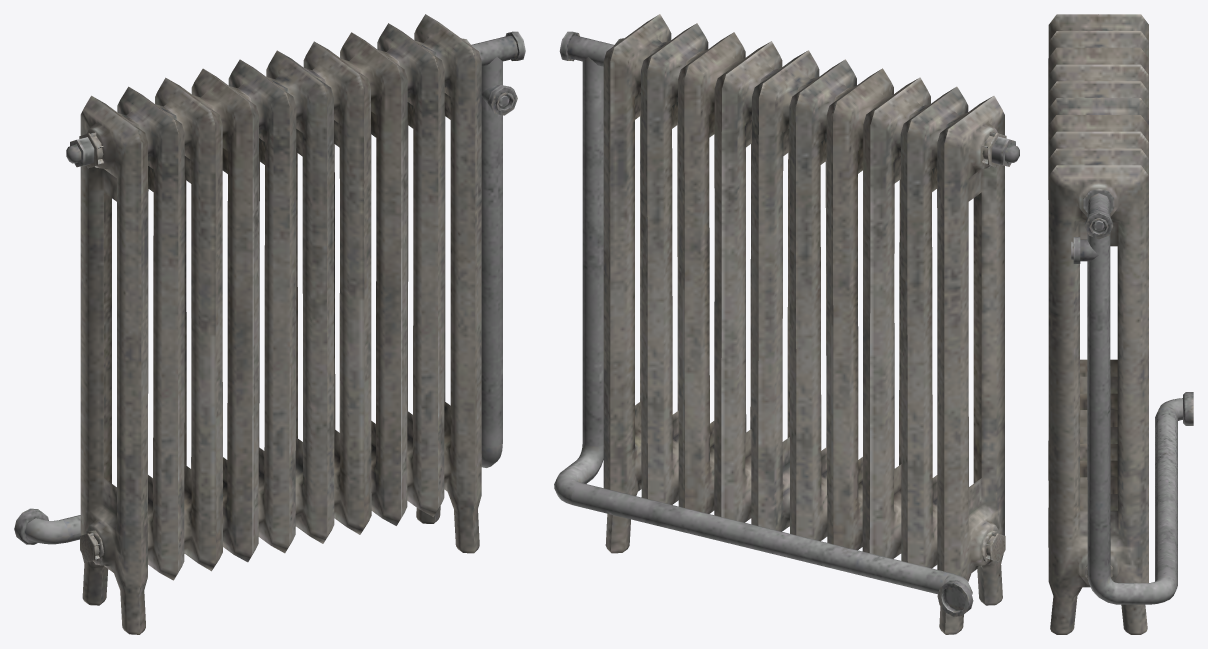
The model's file is 011_officeHeater.fbx.
The picture shows the model from 3 angles, left to right: view 1: azimuth 30°, elevation 25°; view 2: azimuth 150°, elevation 25°; view 3: azimuth 270°, elevation 25°; orthographic projection. The views are drawn at different scales.
Parts seen in each view (by area): view 1: LOD_1_Group_0_Sub_1__sm31_011_Heater01A_Mat; view 2: LOD_1_Group_0_Sub_1__sm31_011_Heater01A_Mat; view 3: LOD_1_Group_0_Sub_1__sm31_011_Heater01A_Mat.
Boxes of the visible parts, left/top/right/bottom form: LOD_1_Group_0_Sub_1__sm31_011_Heater01A_Mat: left=14, top=14, right=525, bottom=634; LOD_1_Group_0_Sub_1__sm31_011_Heater01A_Mat: left=554, top=14, right=1019, bottom=634; LOD_1_Group_0_Sub_1__sm31_011_Heater01A_Mat: left=1048, top=14, right=1193, bottom=634.
Bounding box in the file's own units: 0.879 × 0.9306 × 0.2623.
